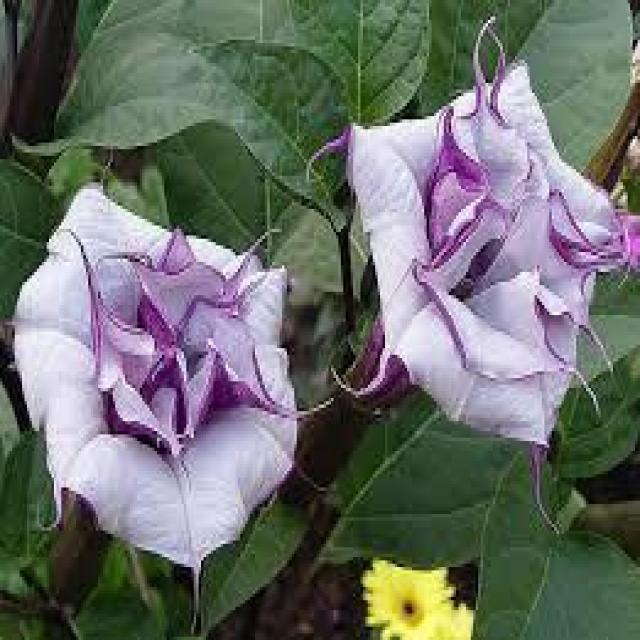organic waste: (18, 177, 306, 562), (331, 73, 620, 451)
